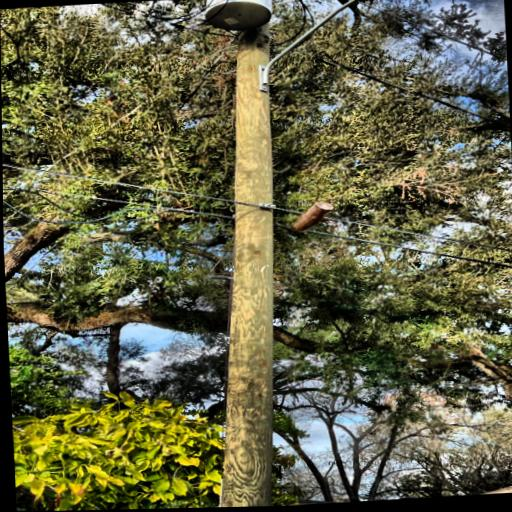pole: (160, 0, 315, 508)
street light: (246, 0, 420, 95)
transformer: (202, 0, 282, 35)
